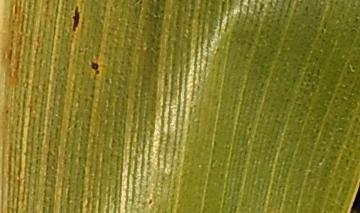tarspot: (70, 5, 82, 34), (90, 62, 101, 75), (147, 198, 153, 205)
